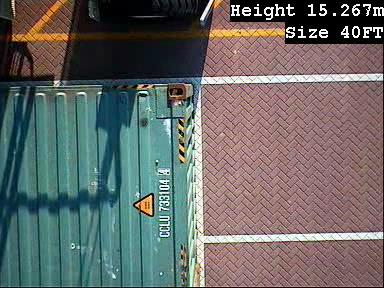groundmarker_2: (301, 234, 354, 270), (303, 62, 356, 97), (303, 97, 356, 132)
